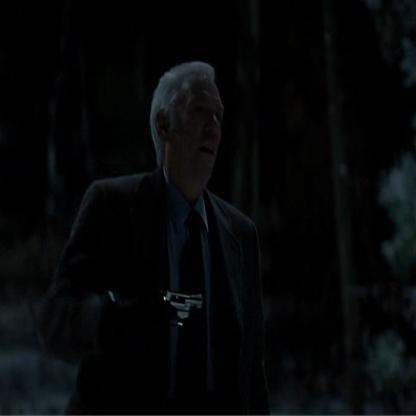gun: (156, 276, 207, 324)
